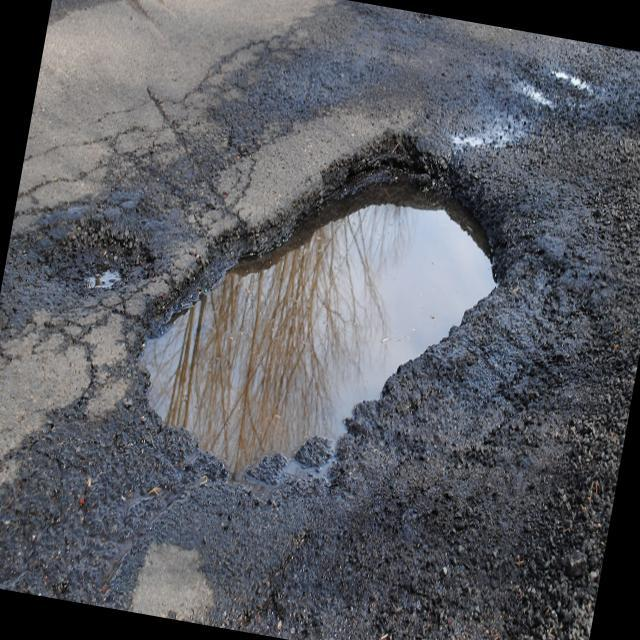Pothole: (118, 64, 582, 518), (95, 500, 257, 630), (30, 201, 168, 313), (431, 79, 532, 151), (498, 65, 582, 142), (546, 65, 612, 120)
